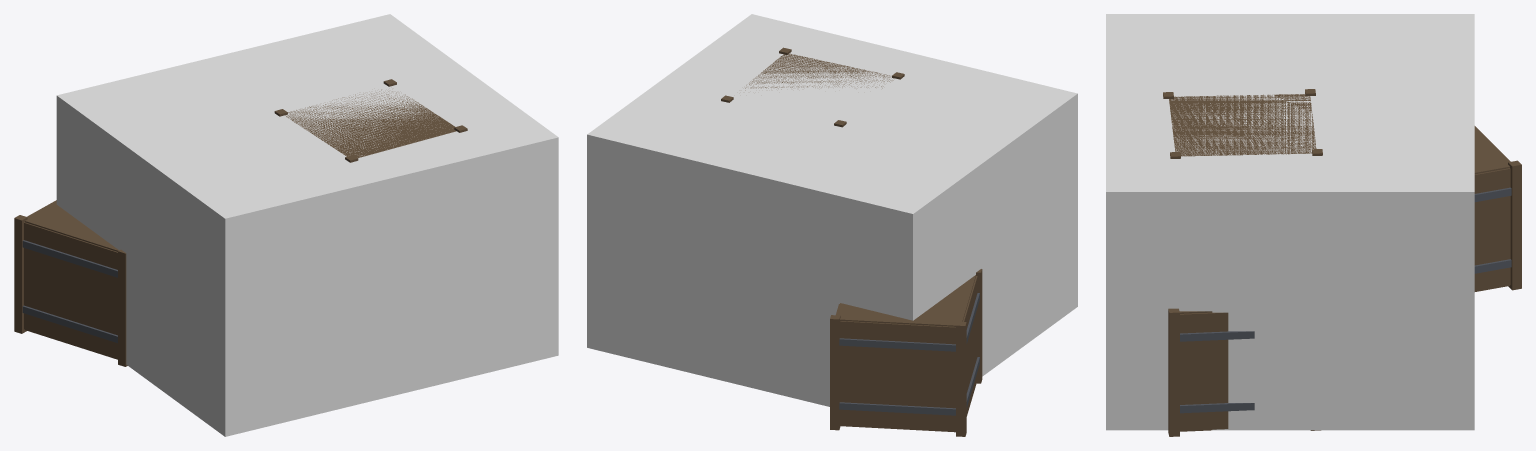
Rendered from crate_stack.glb.
3 views of the same model, side by side, from view 1: azimuth 30°, elevation 25°; view 2: azimuth 150°, elevation 25°; view 3: azimuth 270°, elevation 25° (orthographic). The views are drawn at different scales.
Parts seen in each view (by area): view 1: crate_stack-convcol, crates_mesh; view 2: crate_stack-convcol, crates_mesh; view 3: crate_stack-convcol, crates_mesh.
Boxes of the visible parts, x1=… form: crate_stack-convcol: x1=56, y1=14, x2=558, y2=436; crates_mesh: x1=14, y1=79, x2=467, y2=366; crate_stack-convcol: x1=587, y1=14, x2=1077, y2=406; crates_mesh: x1=721, y1=47, x2=982, y2=436; crate_stack-convcol: x1=1106, y1=14, x2=1474, y2=430; crates_mesh: x1=1163, y1=89, x2=1521, y2=436.
Bounding box in the file's own units: 1.87 × 1.02 × 1.58.
